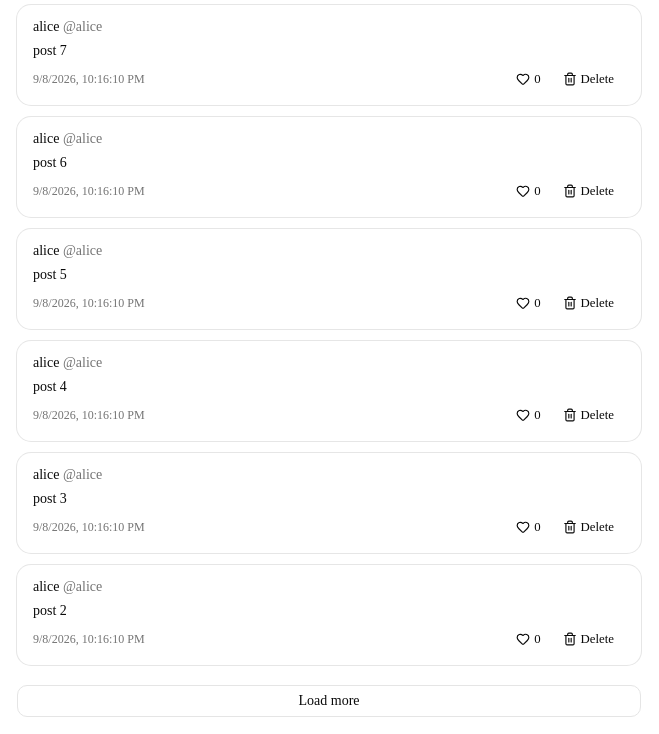
Scenario: home feed (P2) › load-more fallback pages to caught-up
The width and height of the screenshot is (659, 734).
(page scrolled)
Click the button "Load more" at (329, 701), box [17,685,641,717]
(page scrolled)
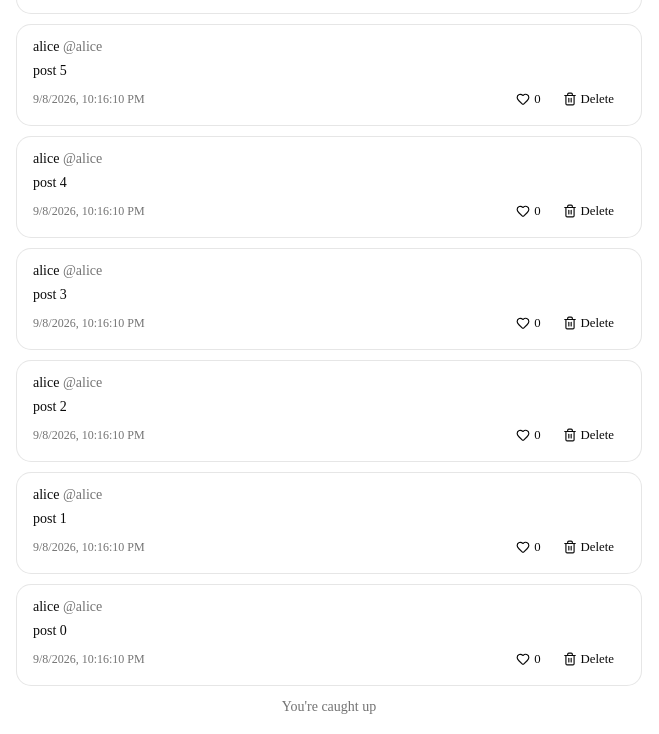
Result: the text "You're caught up" is shown at [282,699,376,714]
